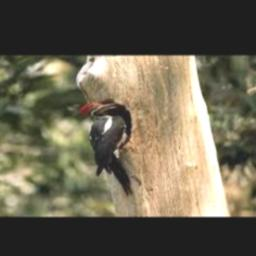Woodpecker: (80, 102, 133, 195)
